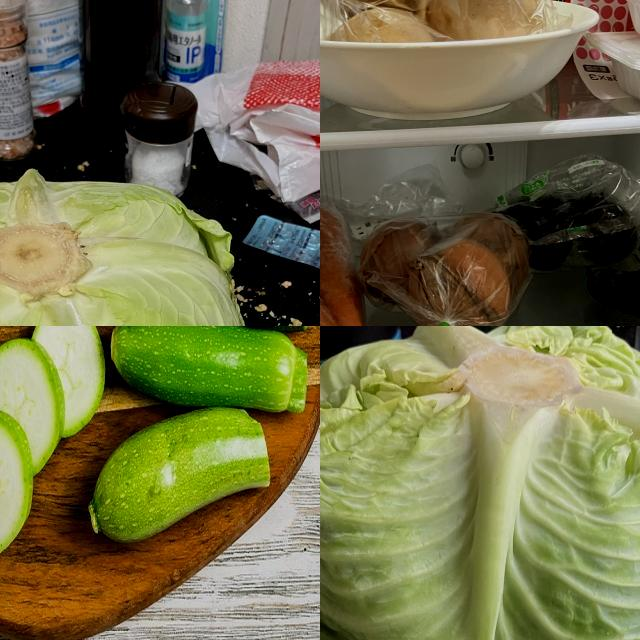cabbage: (321, 327, 640, 640), (1, 167, 272, 327)
carrot: (321, 206, 372, 327), (321, 218, 359, 327)
eggplant: (556, 189, 640, 262), (502, 198, 576, 274), (587, 261, 640, 327)
onion: (414, 238, 512, 327), (358, 218, 448, 310), (444, 212, 533, 299)
